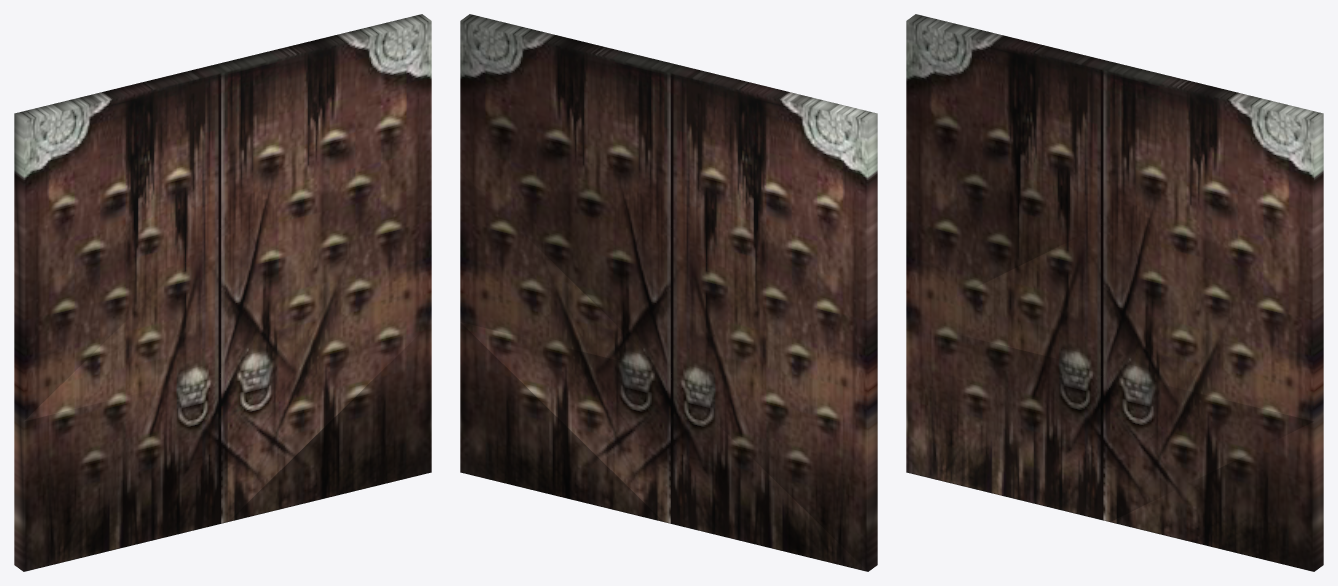
3 renders of one model, left to right at view 1: azimuth 30°, elevation 25°; view 2: azimuth 150°, elevation 25°; view 3: azimuth 330°, elevation 25°, orthographic.
Parts seen in each view (by area): view 1: Pdoor04; view 2: Pdoor04; view 3: Pdoor04.
Part boxes in pixels (left/top/right/bottom): Pdoor04: left=14, top=14, right=431, bottom=571; Pdoor04: left=460, top=14, right=877, bottom=571; Pdoor04: left=906, top=14, right=1323, bottom=571.
Bounding box in the file's own units: 102 × 108 × 4.17.
Materials: 1 (1 with a texture image).
